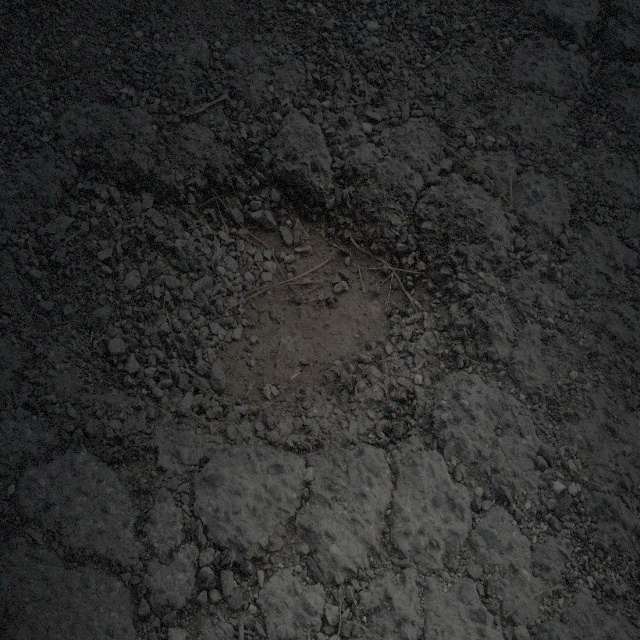pothole: (187, 159, 454, 444)
